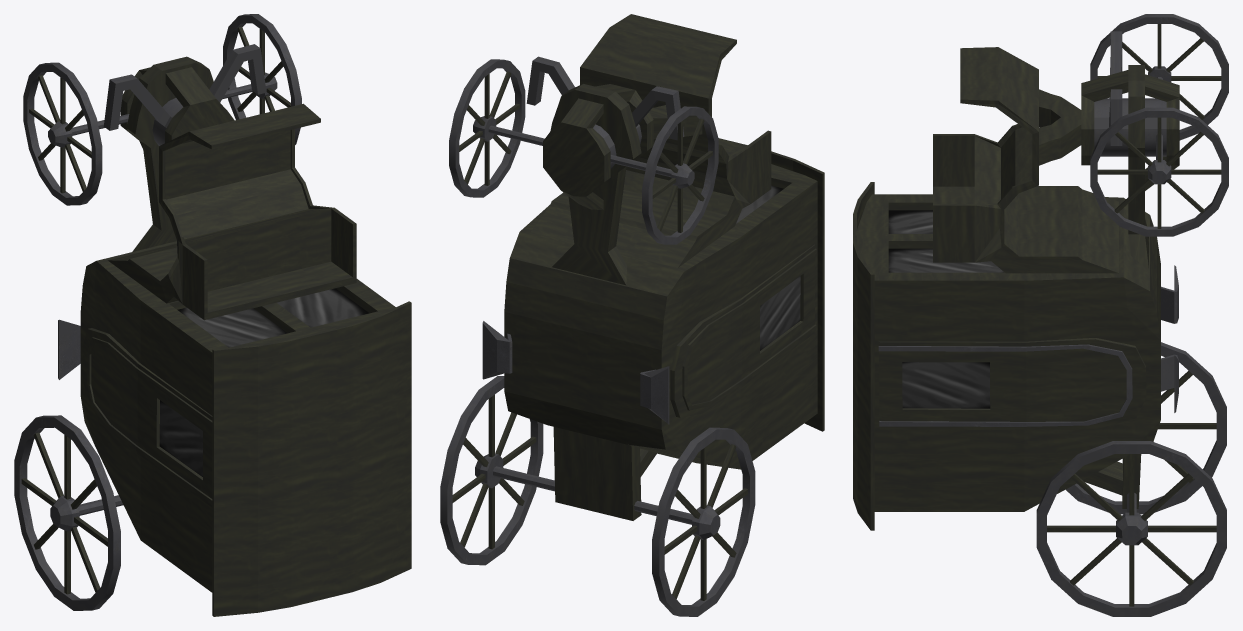
File: Carriage01.fbx
3 renders of one model, left to right at view 1: azimuth 30°, elevation 25°; view 2: azimuth 150°, elevation 25°; view 3: azimuth 270°, elevation 25°, orthographic. The views are drawn at different scales.
Visible parts, largest first — view 1: Carriage01; view 2: Carriage01; view 3: Carriage01.
Boxes of the visible parts, left/top/right/bottom form: Carriage01: left=14, top=14, right=411, bottom=616; Carriage01: left=440, top=14, right=824, bottom=616; Carriage01: left=853, top=14, right=1228, bottom=616.
Bounding box in the file's own units: 209 × 427 × 290.
